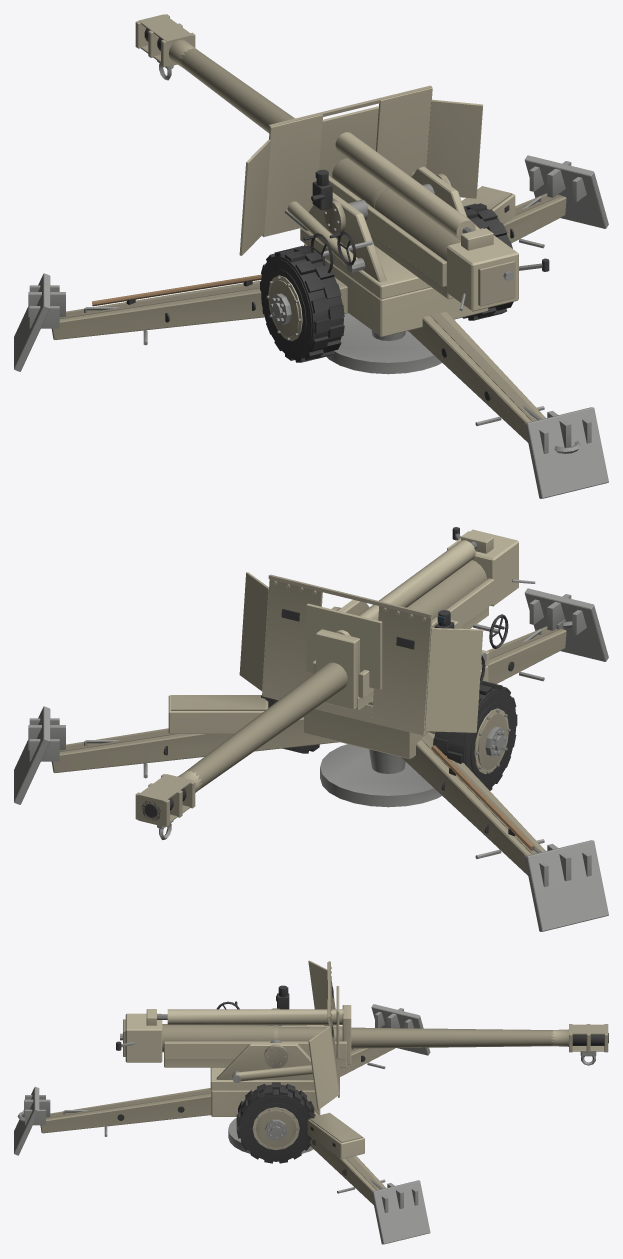
The model's file is howitzer_rus.glb.
The picture shows the model from 3 angles, top to bottom: view 1: azimuth 30°, elevation 25°; view 2: azimuth 150°, elevation 25°; view 3: azimuth 270°, elevation 25°; orthographic projection. The views are drawn at different scales.
Visible parts, largest first — view 1: body, turret, barrel, wheel_0, wheel_1; view 2: body, barrel, turret, wheel_0; view 3: barrel, body, turret, wheel_1.
Boxes of the visible parts, x1=… form: body: x1=14, y1=155, x2=608, y2=498; turret: x1=239, y1=85, x2=483, y2=299; barrel: x1=135, y1=14, x2=549, y2=311; wheel_0: x1=260, y1=245, x2=344, y2=362; wheel_1: x1=462, y1=203, x2=513, y2=320; body: x1=14, y1=588, x2=608, y2=931; barrel: x1=135, y1=527, x2=535, y2=839; turret: x1=239, y1=572, x2=508, y2=735; wheel_0: x1=433, y1=680, x2=517, y2=790; barrel: x1=116, y1=986, x2=608, y2=1067; body: x1=14, y1=1004, x2=430, y2=1244; turret: x1=210, y1=960, x2=339, y2=1109; wheel_1: x1=236, y1=1082, x2=315, y2=1163.
Size of the model in its own units: 5.51 by 1.97 by 6.82.
